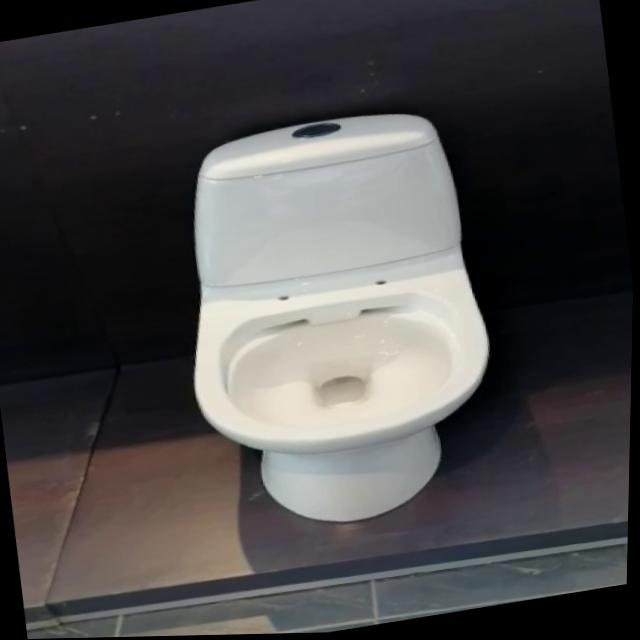toilet: (158, 97, 517, 547)
